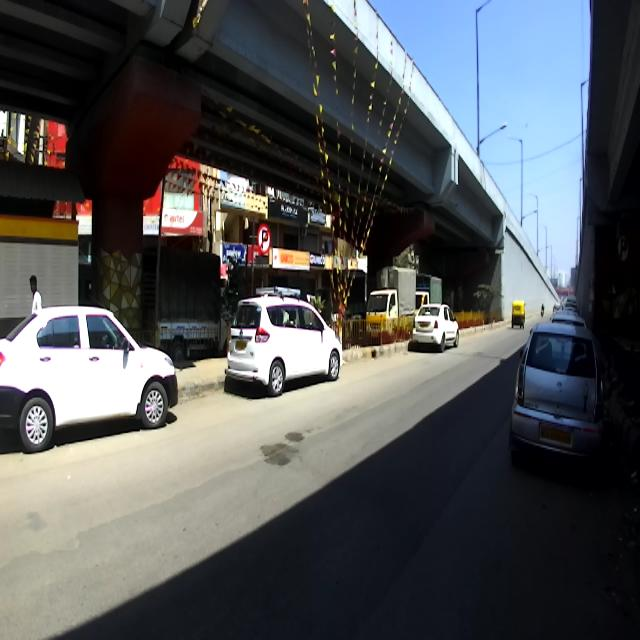car ahead at: (0, 306, 182, 441), (510, 317, 615, 459), (232, 292, 342, 396)
